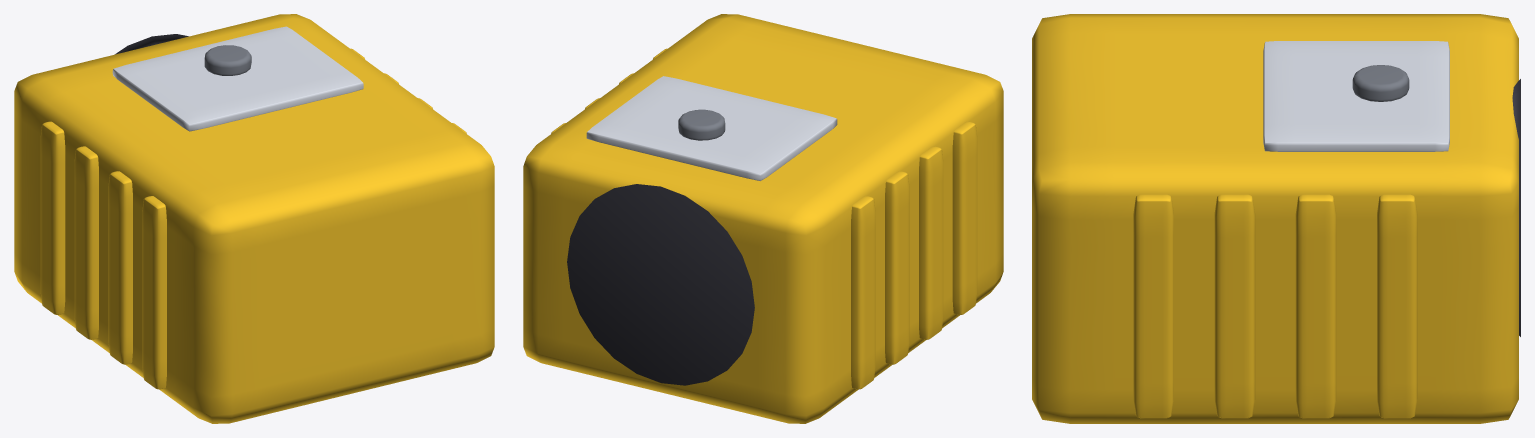
The model's file is TraceRaceSharpener.obj.
3 renders of one model, left to right at view 1: azimuth 30°, elevation 25°; view 2: azimuth 150°, elevation 25°; view 3: azimuth 270°, elevation 25°, orthographic. The views are drawn at different scales.
Parts seen in each view (by area): view 1: Body, Blade, Screw, Hole; view 2: Body, Hole, Blade, Screw; view 3: Body, Blade, Screw, Hole.
Boxes of the visible parts, x1=… form: Body: x1=14, y1=14, x2=494, y2=423; Blade: x1=112, y1=26, x2=363, y2=131; Screw: x1=204, y1=45, x2=251, y2=75; Hole: x1=115, y1=34, x2=188, y2=54; Body: x1=523, y1=14, x2=1003, y2=423; Hole: x1=567, y1=184, x2=754, y2=385; Blade: x1=586, y1=76, x2=837, y2=180; Screw: x1=678, y1=109, x2=725, y2=140; Body: x1=1032, y1=14, x2=1518, y2=423; Blade: x1=1263, y1=41, x2=1449, y2=151; Screw: x1=1352, y1=65, x2=1409, y2=101; Hole: x1=1512, y1=79, x2=1520, y2=336.
Bounding box in the file's own units: 10.7 × 7.7 × 12.05.
